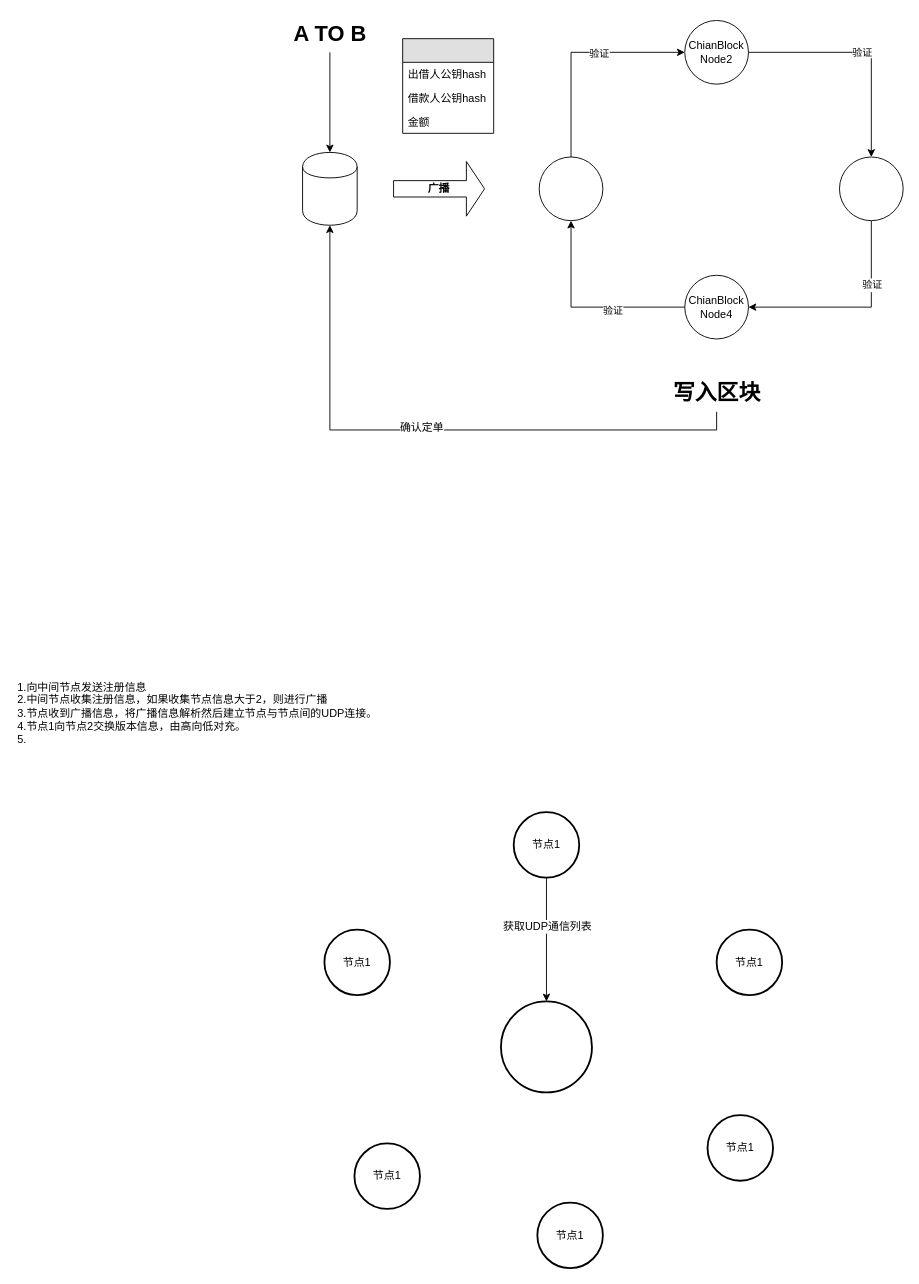
The diagram is 919 pixels wide and 1284 high, and some of its shapes have lost their labels. Each missing label, with the box of its shape:
ChianBlock Node1: (538, 156, 603, 221)
ChianBlock Node3: (839, 156, 903, 221)
LocalDB: (302, 152, 357, 225)
中转节点: (500, 1000, 592, 1093)
交易: (402, 38, 494, 133)
